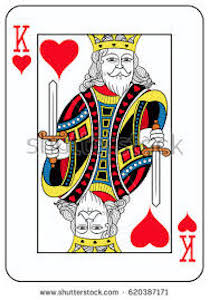KingOfHearts: (2, 4, 207, 285)
